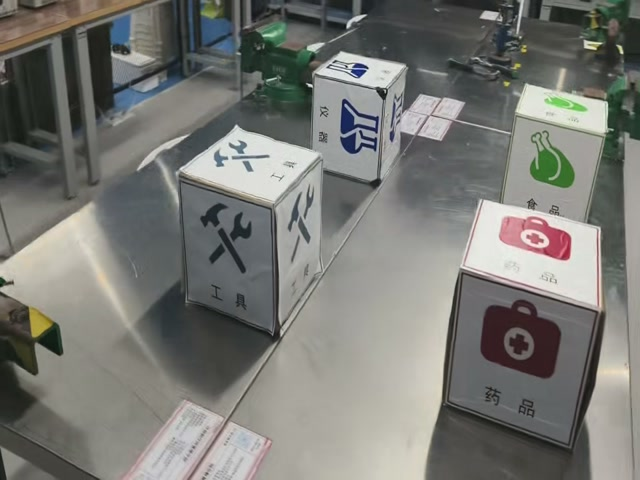Cube_food: (515, 85, 606, 134)
Cube_ins: (313, 52, 406, 90)
Cube_medicine: (461, 201, 603, 315)
Cube_tool: (179, 126, 321, 206)
